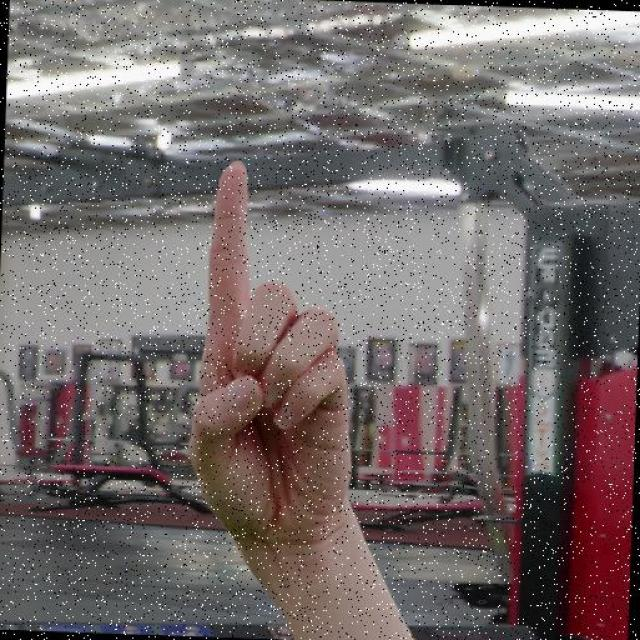D: (147, 140, 418, 610)
